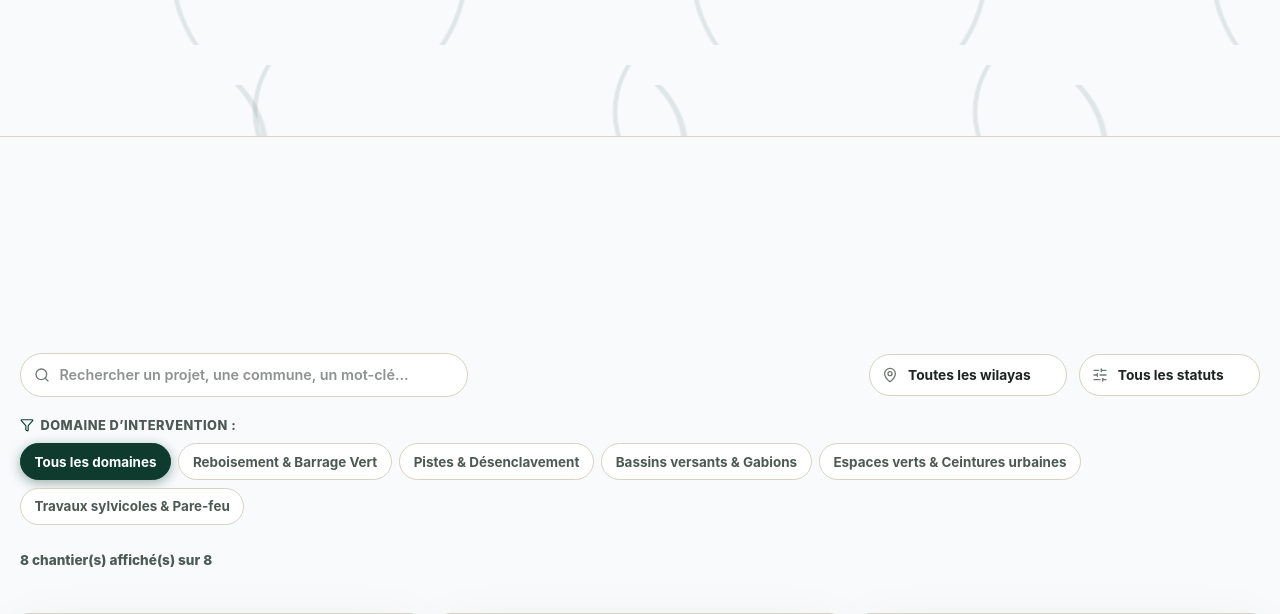
Scenario: ProjectsPage › filters projects by category tab
The width and height of the screenshot is (1280, 614).
(page scrolled)
Click on Pistes & Désenclavement tab
Click the tab "Pistes & Désenclavement" at (497, 462), box [399, 443, 594, 480]
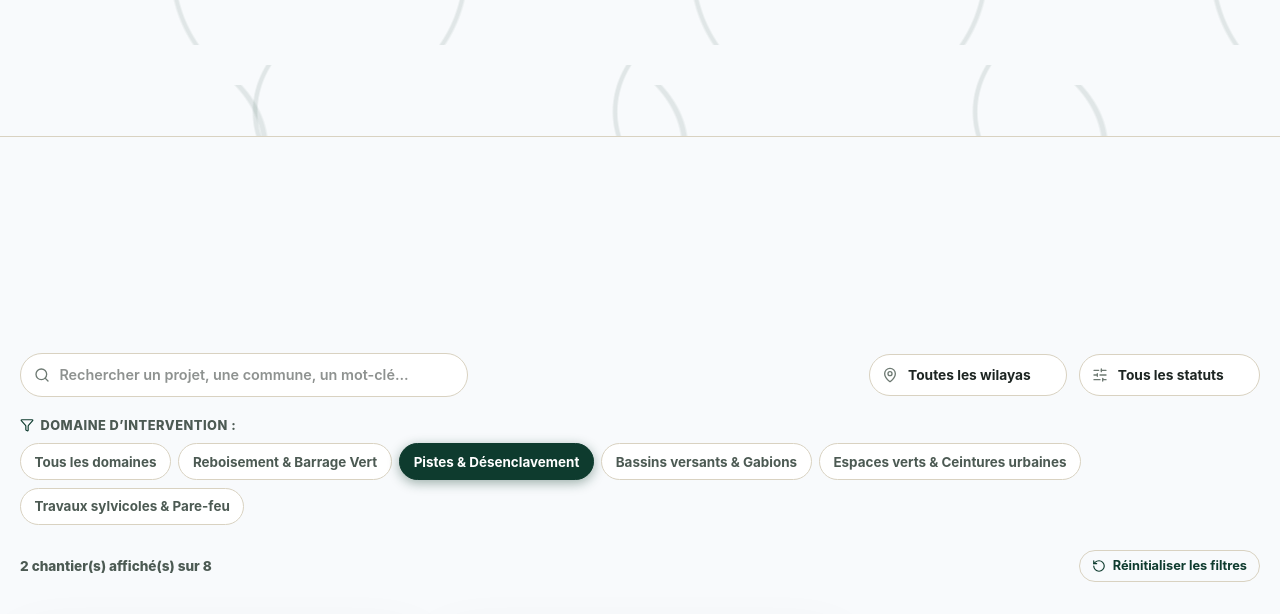
Click on Reboisement tab
Click the tab "Reboisement & Barrage Vert" at (285, 462), box [178, 443, 392, 480]
(page scrolled)
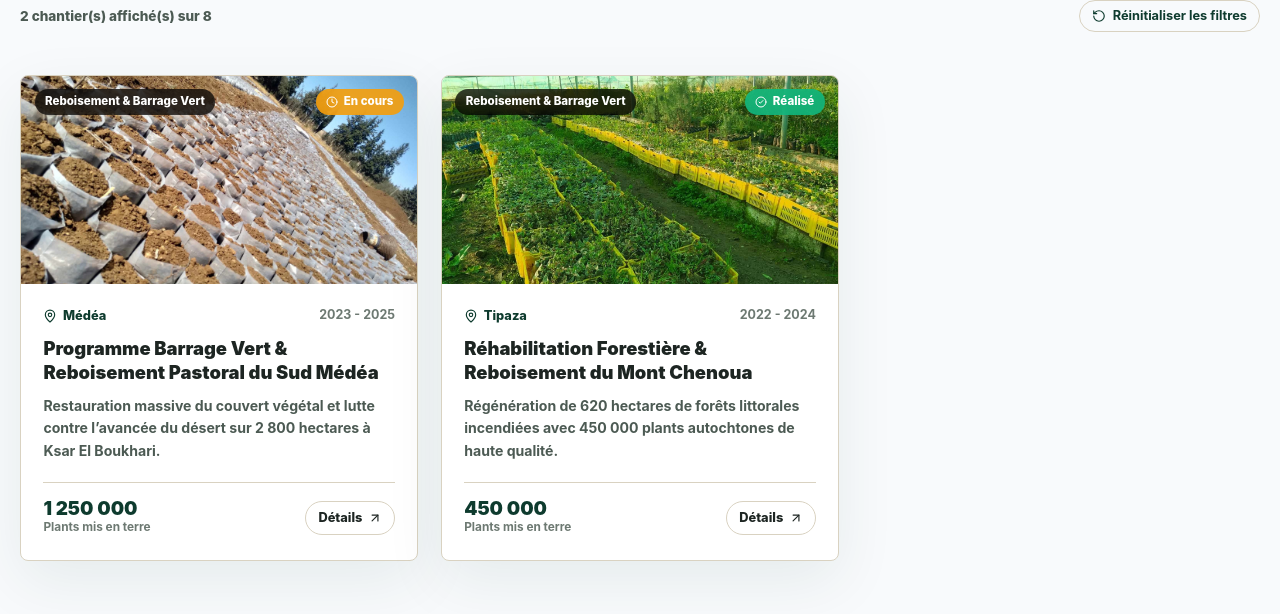
expect the heading "Programme Barrage Vert & Reboisement Pastoral du Sud Médéa" is shown: met, box [43, 336, 395, 385]
expect the heading "Réhabilitation Forestière & Reboisement du Mont Chenoua" is shown: met, box [464, 337, 752, 383]
